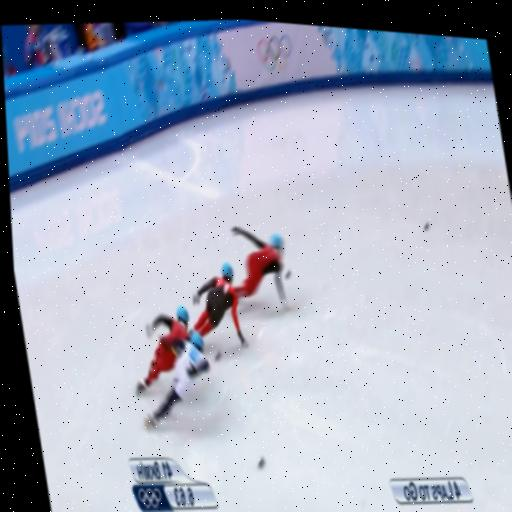Skater: (144, 332, 208, 428), (135, 306, 189, 396), (231, 226, 287, 308), (193, 263, 247, 347)
